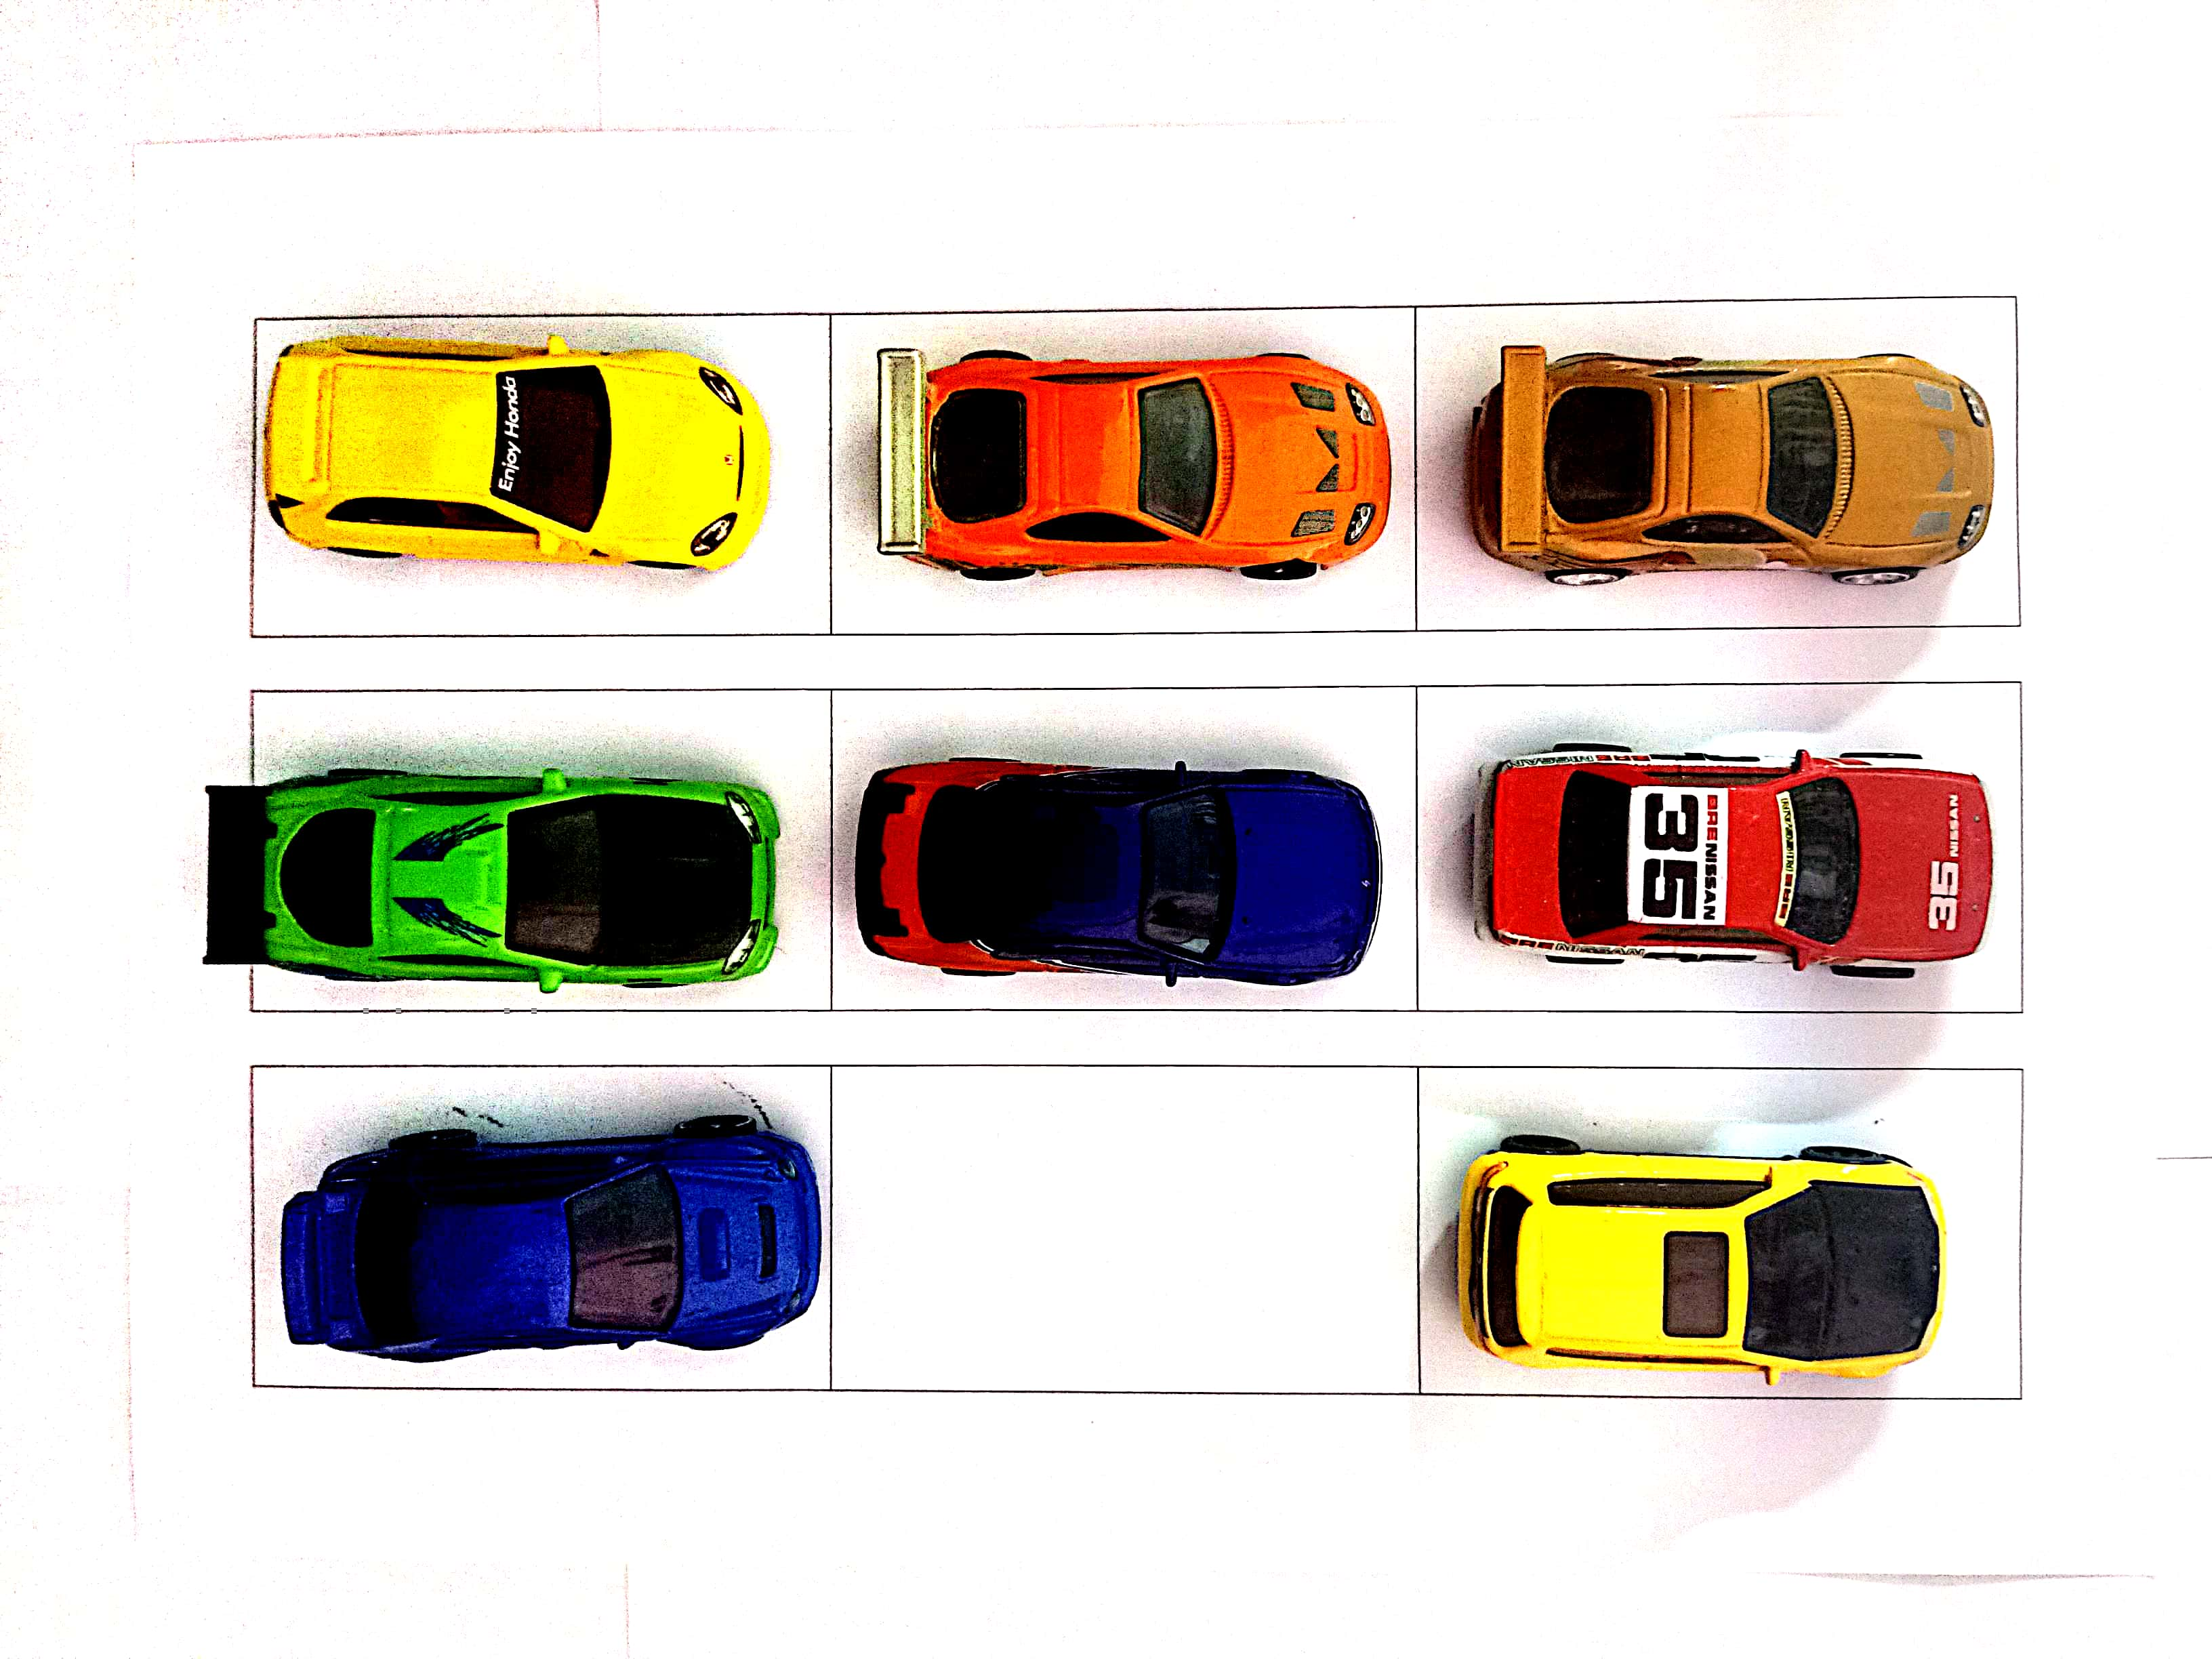Busy: (1418, 1068, 2026, 1396), (1418, 303, 2017, 629), (1418, 687, 2017, 1011), (829, 308, 1414, 629), (254, 1065, 833, 1385), (253, 692, 833, 1009), (254, 321, 829, 634), (833, 694, 1413, 1004)
Free: (833, 1073, 1414, 1391)
